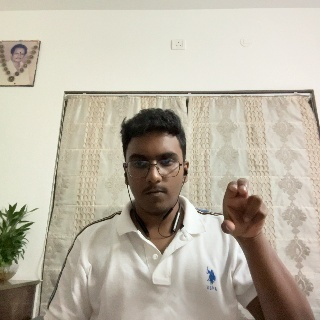Face: (124, 107, 190, 218)
No: (222, 176, 273, 267)
